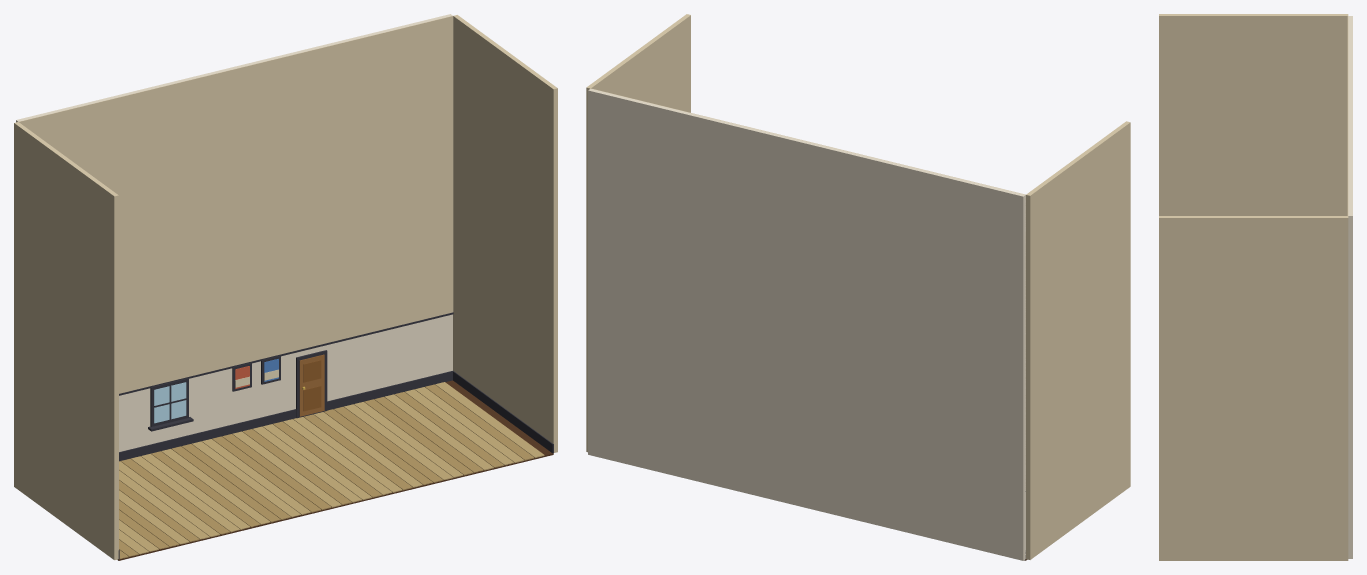
The model's file is room_japao_wood.glb.
3 renders of one model, left to right at view 1: azimuth 30°, elevation 25°; view 2: azimuth 150°, elevation 25°; view 3: azimuth 270°, elevation 25°, orthographic. The views are drawn at different scales.
Parts seen in each view (by area): view 1: room; view 2: room; view 3: room.
Part boxes in pixels (x1,y1,x2,y2): room: (14,14,557,560); room: (586,14,1130,560); room: (1159,14,1352,560).
Size of the model in its own units: 30.6 by 24.11 by 12.3.
